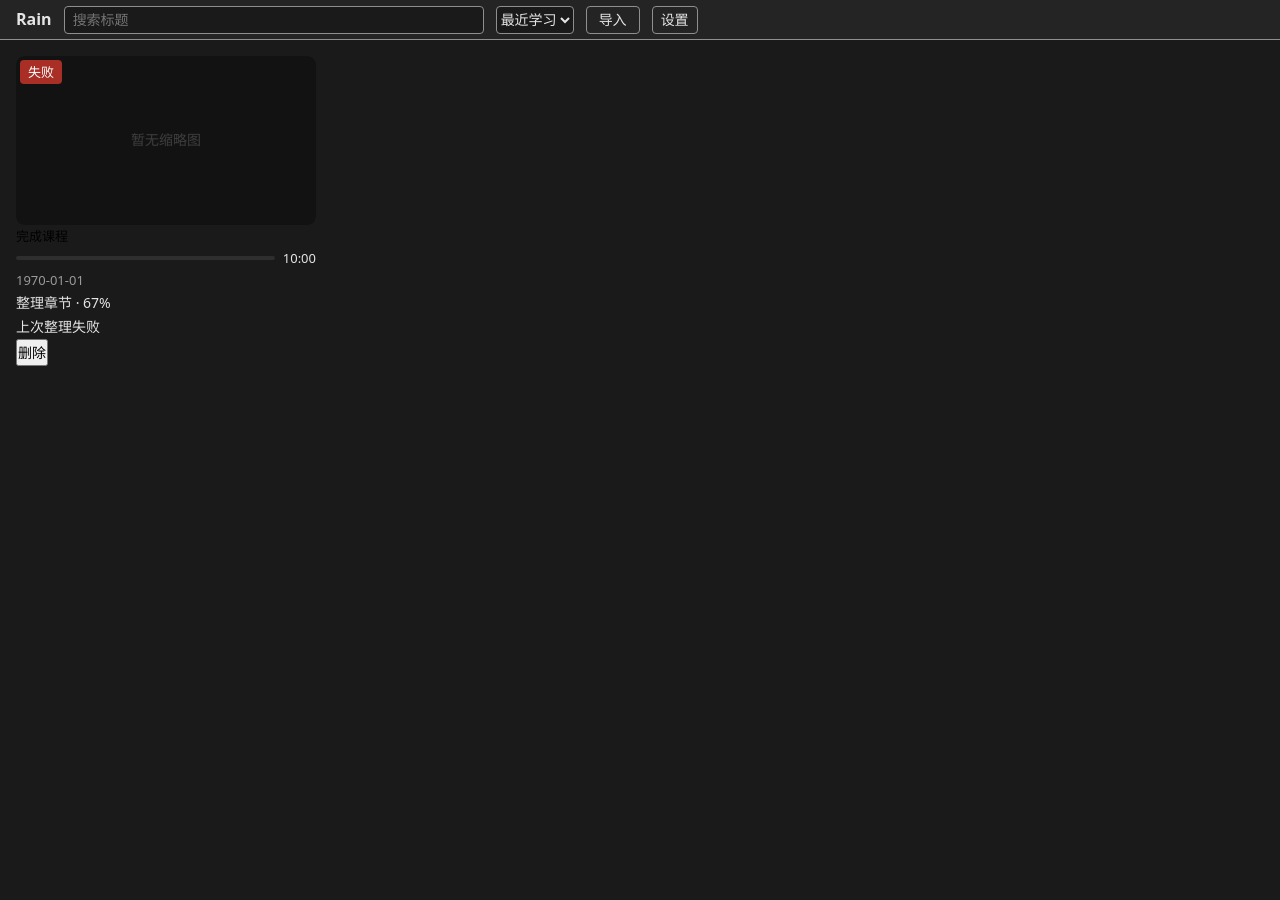
Test case: AC-LV-19 and AC-LV-20 import task details › refreshes the same task record to a visible completed state
Click the text "完成课程" at (42, 236), box x1=16 y1=227 x2=68 y2=245
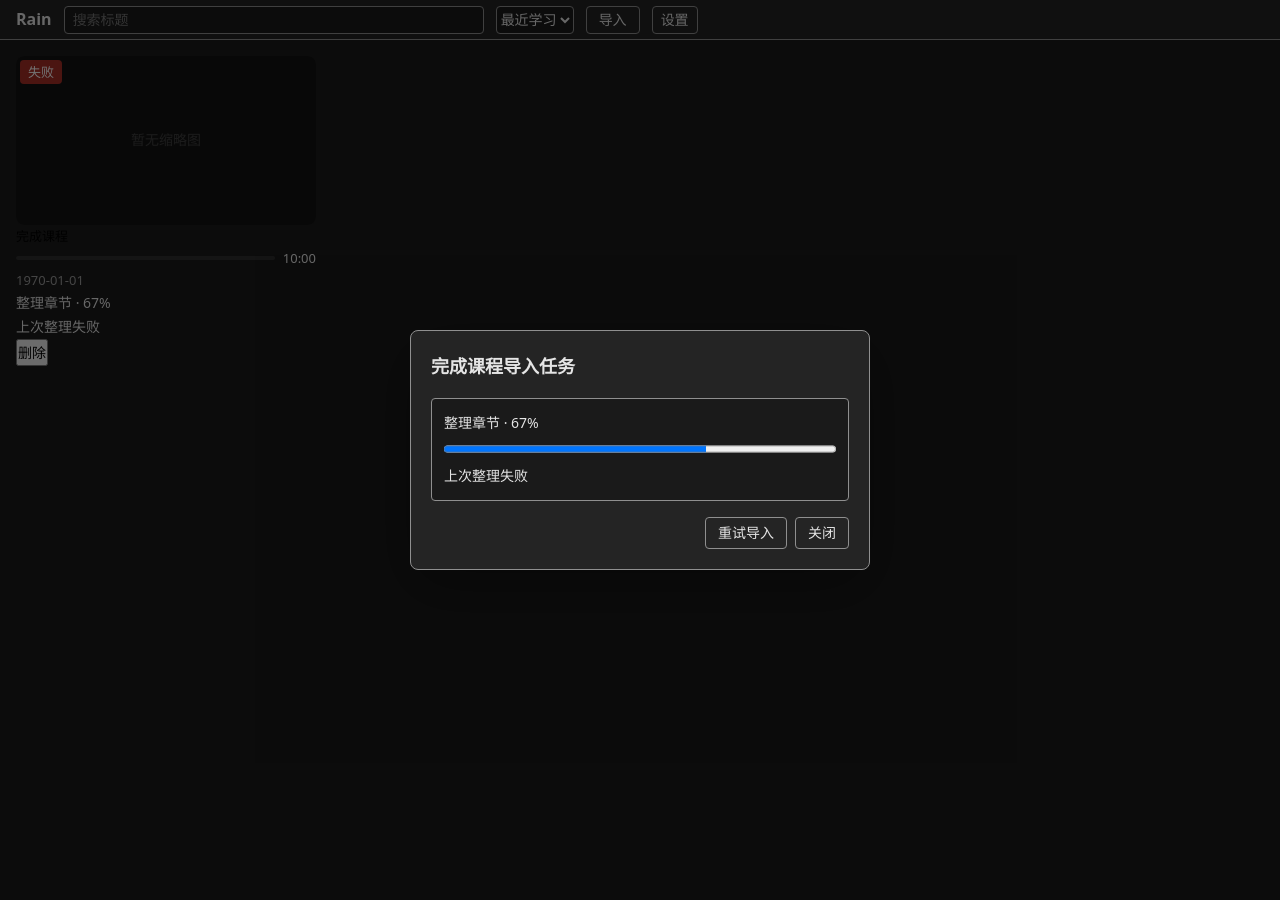
Click the button "重试导入" at (746, 533), box x1=705 y1=517 x2=787 y2=549
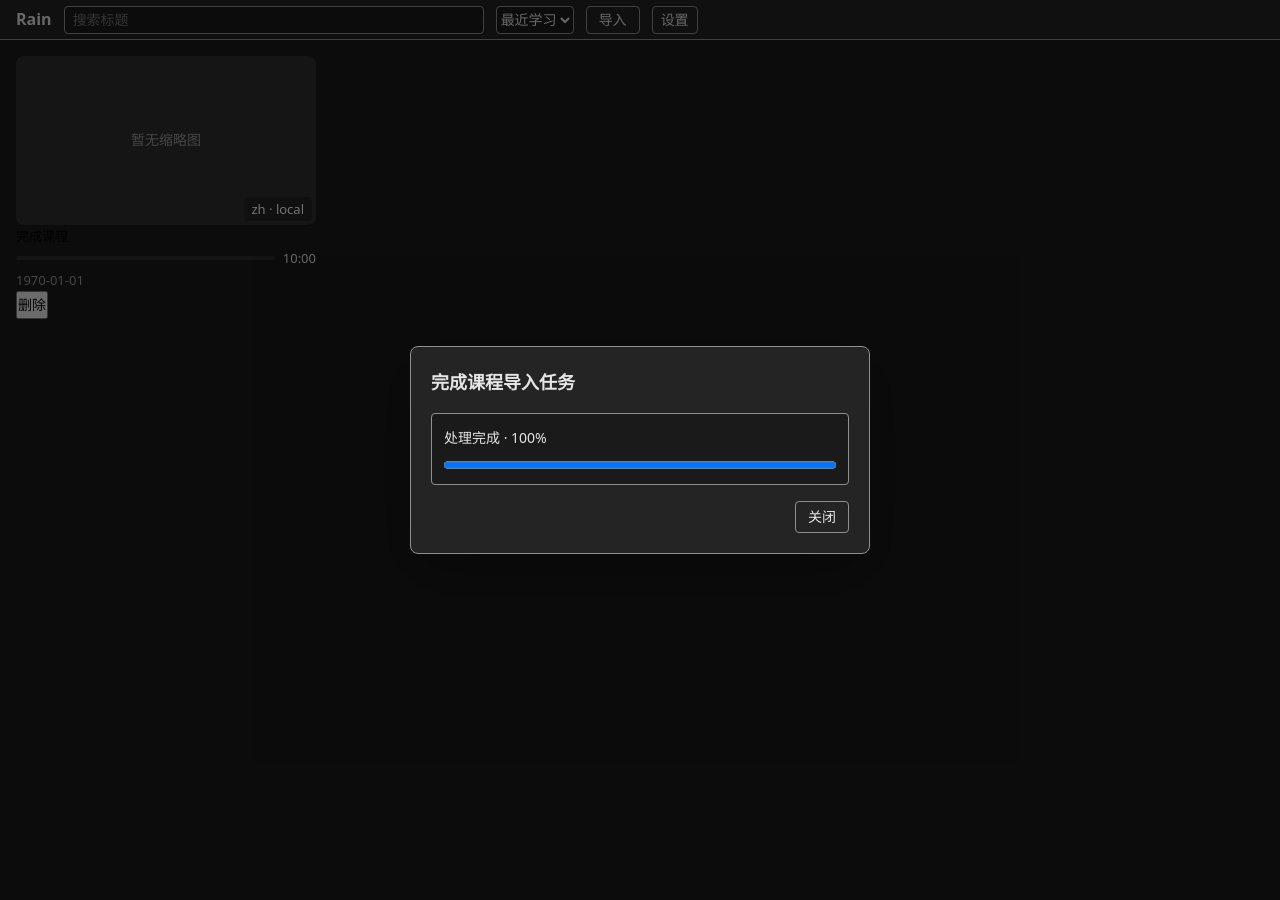
Expected: the element with test id "card-completed-task" is shown, x1=16 y1=56 x2=316 y2=319
Result: the dialog "完成课程导入任务" shows "处理完成 · 100%" at x1=444 y1=428 x2=547 y2=447
Result: the button "重试导入" is gone
